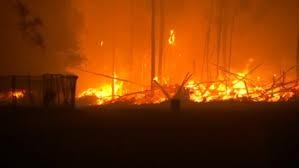fire: (77, 72, 125, 105), (2, 87, 26, 100)
